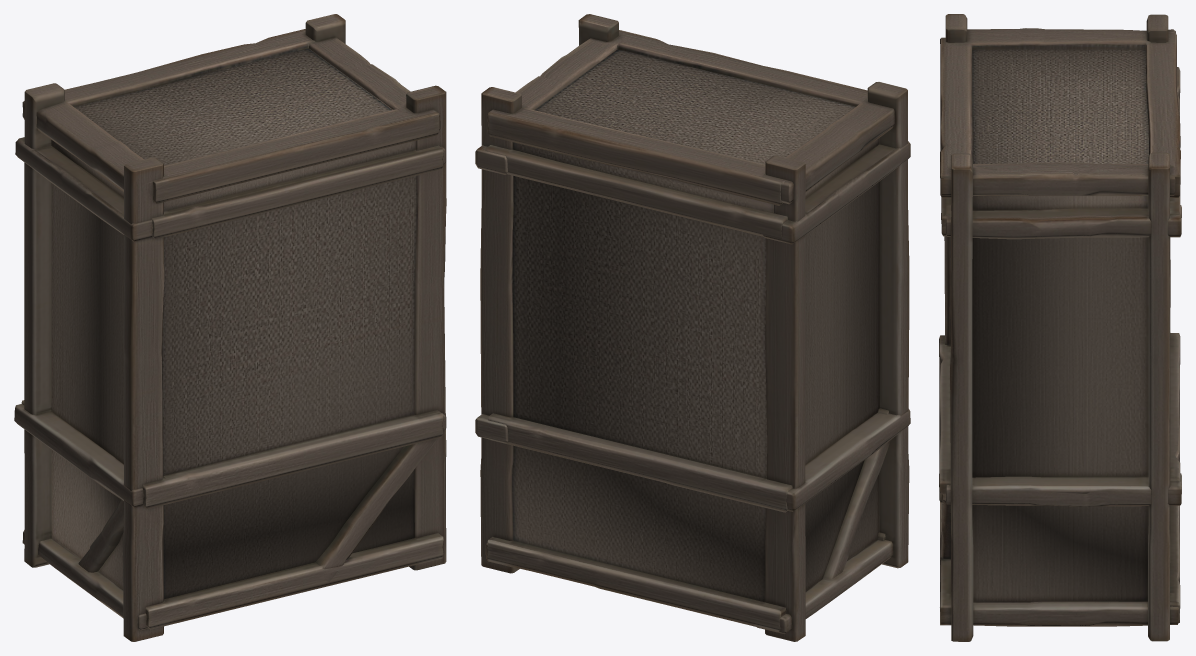
The model's file is muro_pannelli.glb.
3 views of the same model, side by side, from view 1: azimuth 30°, elevation 25°; view 2: azimuth 150°, elevation 25°; view 3: azimuth 270°, elevation 25° (orthographic).
Visible parts, largest first — view 1: muro_pannelli; view 2: muro_pannelli; view 3: muro_pannelli.
Part boxes in pixels (left/top/right/bottom): muro_pannelli: left=14, top=14, right=446, bottom=641; muro_pannelli: left=475, top=14, right=910, bottom=641; muro_pannelli: left=939, top=14, right=1181, bottom=641.
Size of the model in its own units: 0.7124 by 0.9995 by 0.4653.
1 material, 1 textured.
